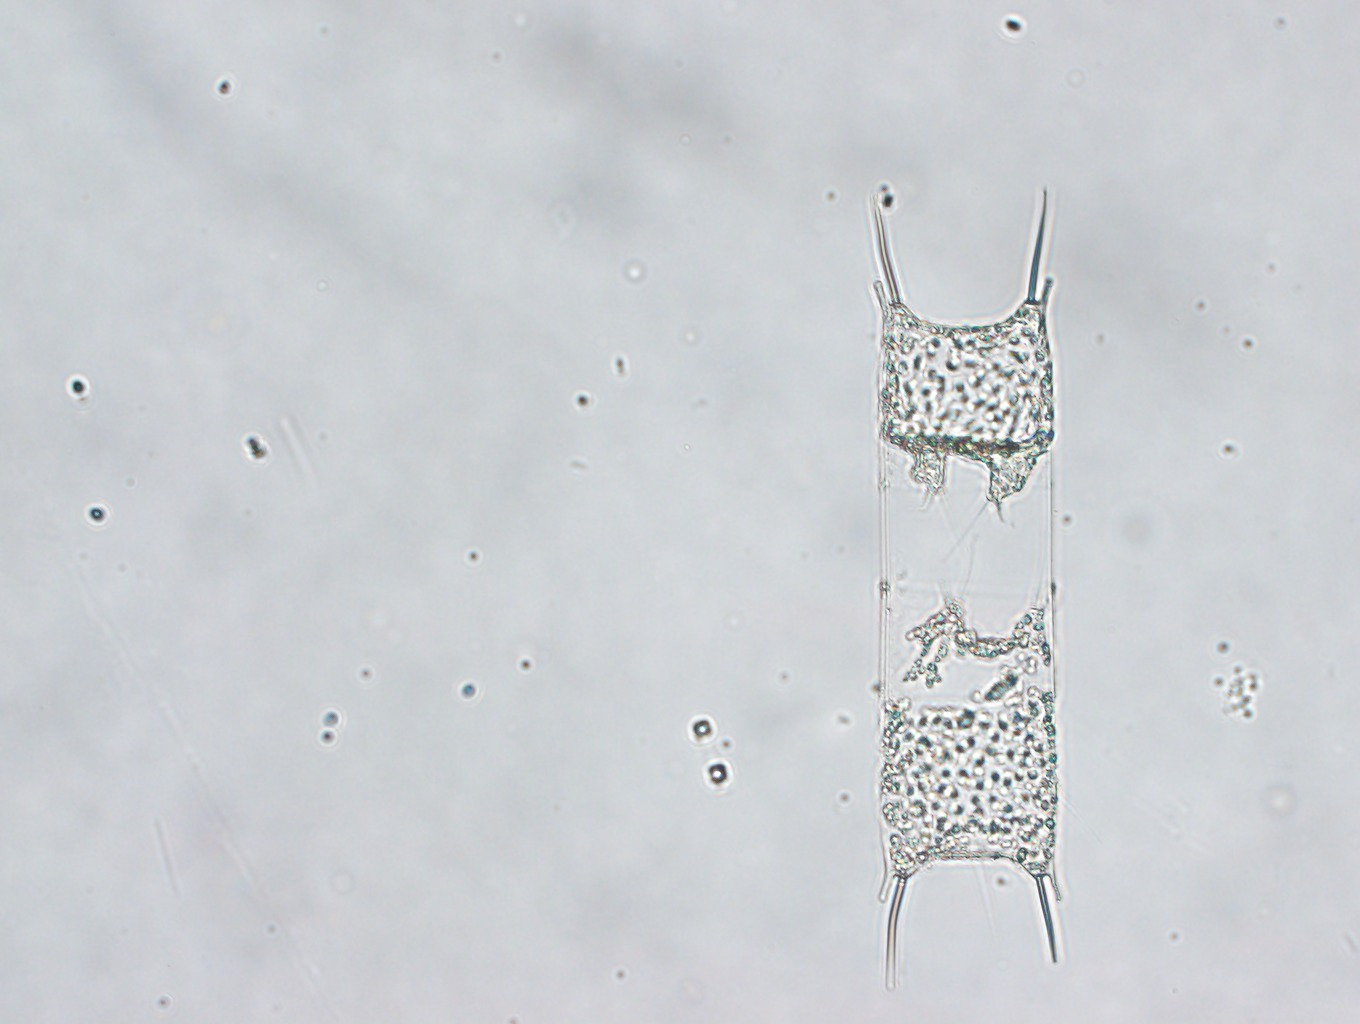biddulphia: (835, 174, 1079, 995)
skeletonema: (681, 716, 738, 803)
